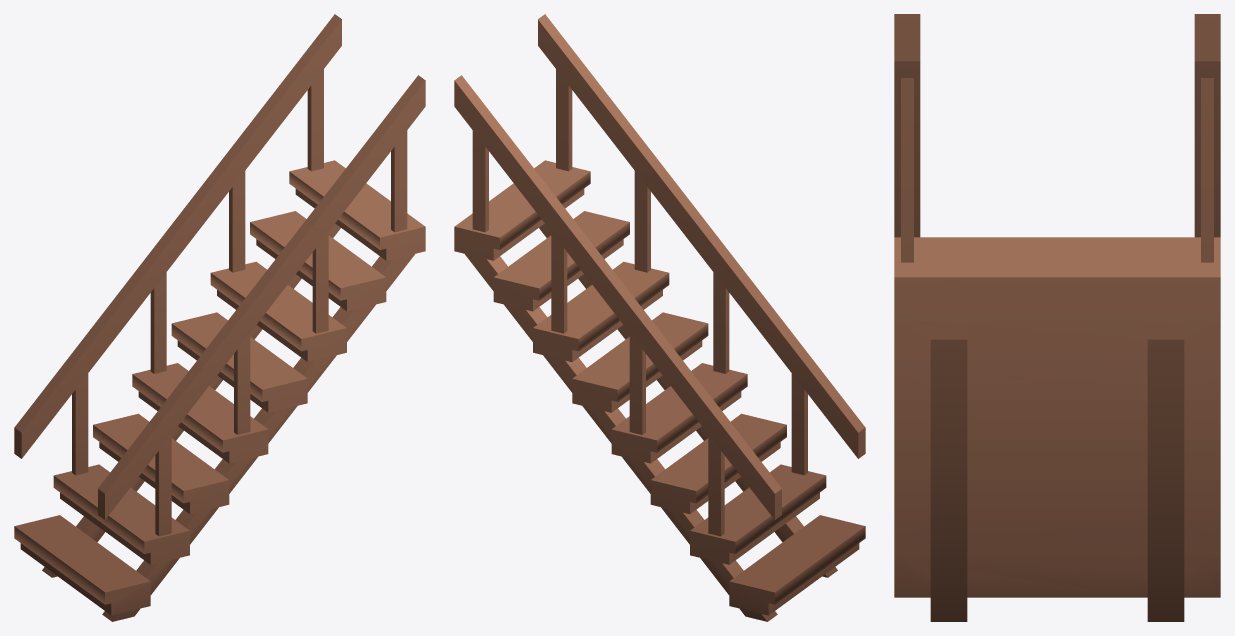
The model's file is stairs-wood-handrail.glb.
The picture shows the model from 3 angles, left to right: view 1: azimuth 30°, elevation 25°; view 2: azimuth 150°, elevation 25°; view 3: azimuth 270°, elevation 25°; orthographic projection. The views are drawn at different scales.
Visible parts, largest first — view 1: stairs-wood-handrail; view 2: stairs-wood-handrail; view 3: stairs-wood-handrail.
Boxes of the visible parts, x1,y1,x2,y2 form: stairs-wood-handrail: (14, 14, 425, 621); stairs-wood-handrail: (454, 14, 865, 621); stairs-wood-handrail: (894, 14, 1220, 621).
Size of the model in its own units: 3.06 by 4.34 by 1.5.
